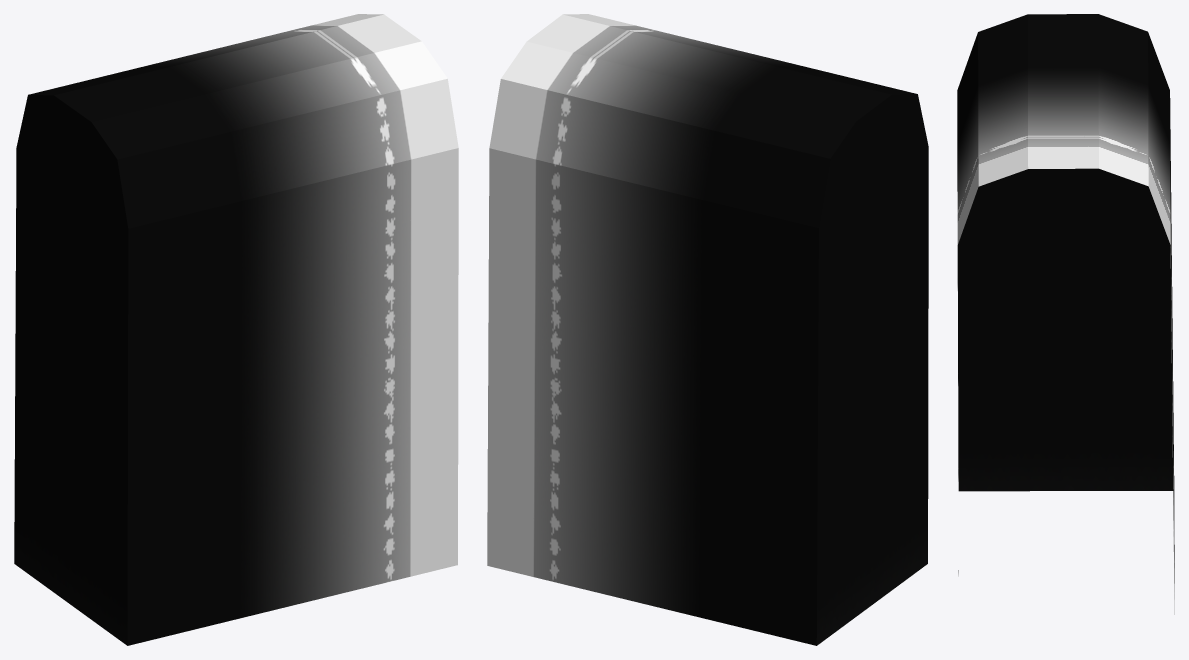
The model's file is ArregleInteriorPuertas.fbx.
3 views of the same model, side by side, from view 1: azimuth 30°, elevation 25°; view 2: azimuth 150°, elevation 25°; view 3: azimuth 270°, elevation 25° (orthographic). The views are drawn at different scales.
Parts seen in each view (by area): view 1: casa_C_ventana_018; view 2: casa_C_ventana_018; view 3: casa_C_ventana_018.
Part boxes in pixels (x1,y1,x2,y2): casa_C_ventana_018: (14, 14, 458, 645); casa_C_ventana_018: (487, 14, 928, 645); casa_C_ventana_018: (957, 14, 1174, 614).
Size of the model in its own units: 1.63 by 2.33 by 0.9651.
